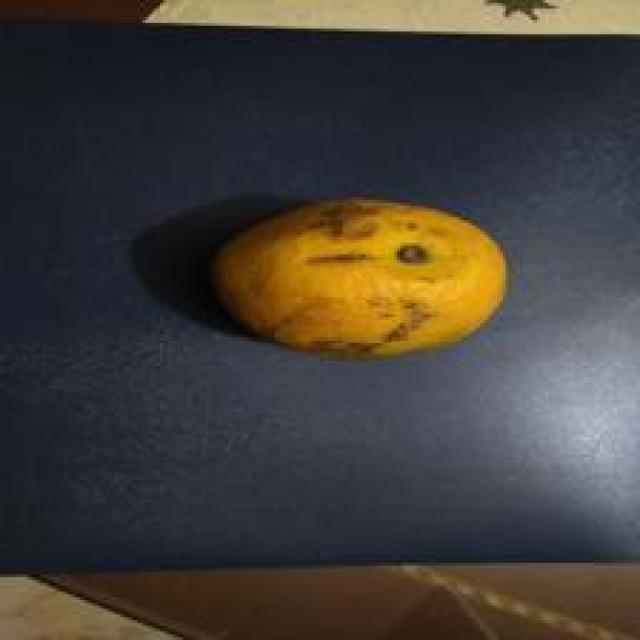overripe: (195, 188, 514, 360)
